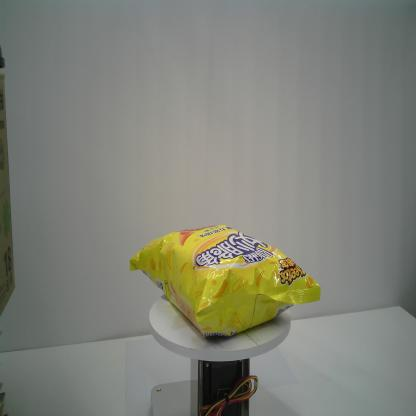Puffed Food: (129, 218, 323, 342)
